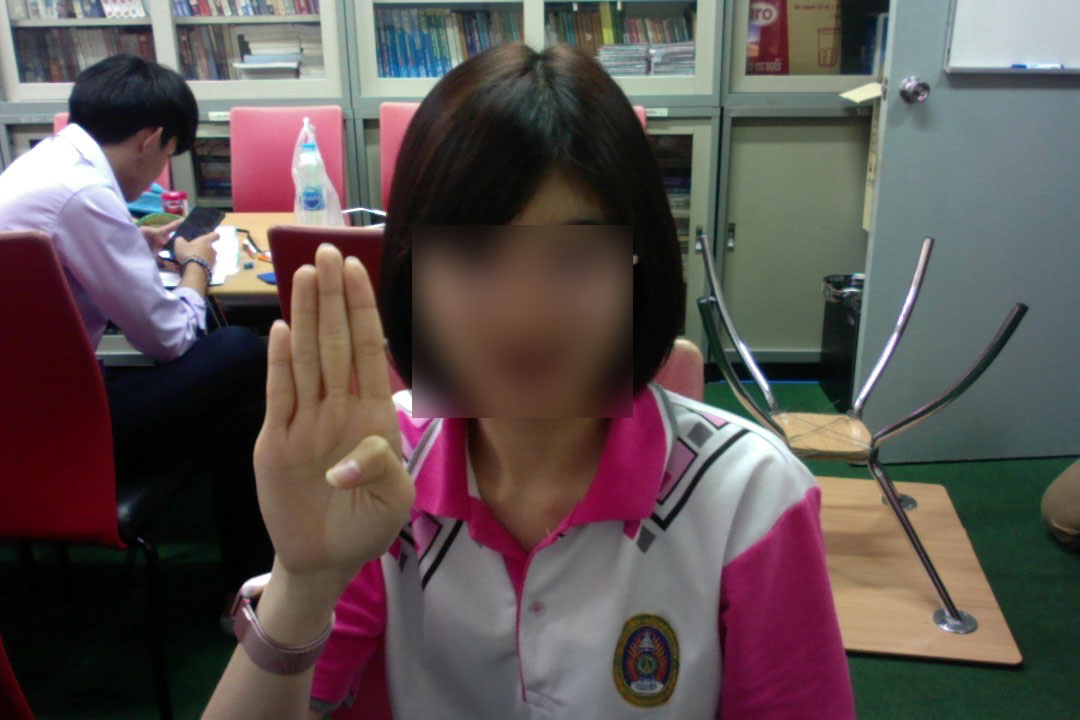bor: (247, 234, 419, 598)
